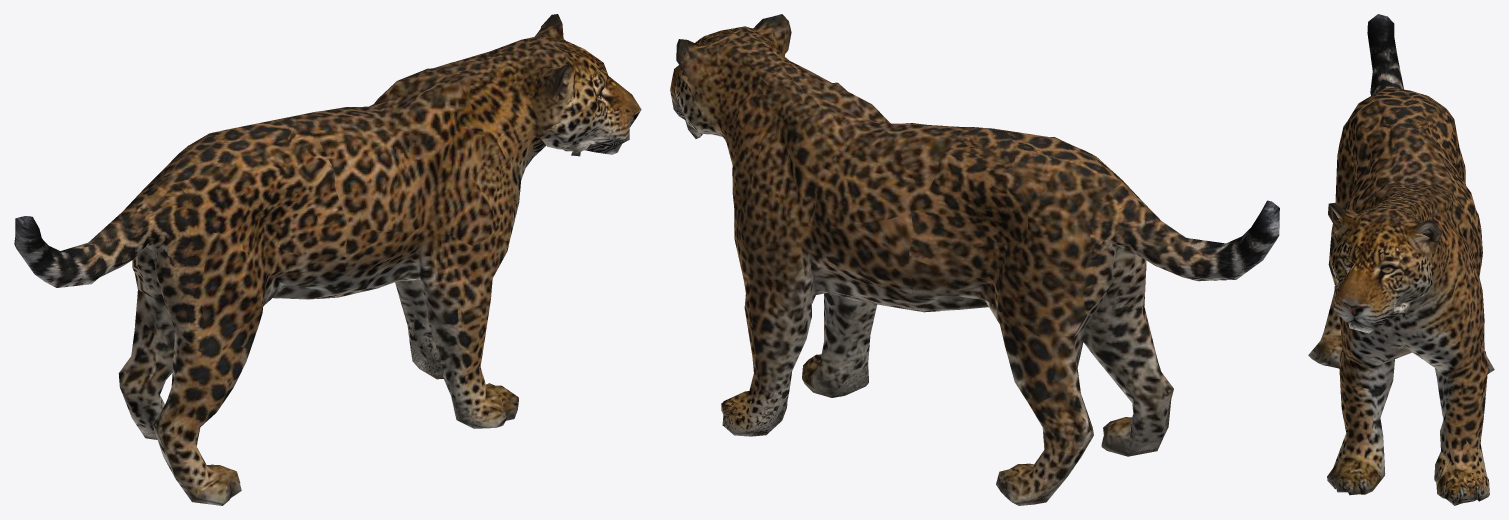
The model's file is ROSETTE-lo.glb.
3 renders of one model, left to right at view 1: azimuth 30°, elevation 25°; view 2: azimuth 150°, elevation 25°; view 3: azimuth 270°, elevation 25°, orthographic. The views are drawn at different scales.
Visible parts, largest first — view 1: tripo_node_30415043-2f97-4af6-8ab2-bd8a5d9d81c6; view 2: tripo_node_30415043-2f97-4af6-8ab2-bd8a5d9d81c6; view 3: tripo_node_30415043-2f97-4af6-8ab2-bd8a5d9d81c6.
Boxes of the visible parts, x1,y1,x2,y2 form: tripo_node_30415043-2f97-4af6-8ab2-bd8a5d9d81c6: [14, 14, 641, 505]; tripo_node_30415043-2f97-4af6-8ab2-bd8a5d9d81c6: [670, 14, 1279, 505]; tripo_node_30415043-2f97-4af6-8ab2-bd8a5d9d81c6: [1308, 14, 1494, 505].
Size of the model in its own units: 1.82 by 0.9955 by 0.5326.
1 material, 1 textured.
